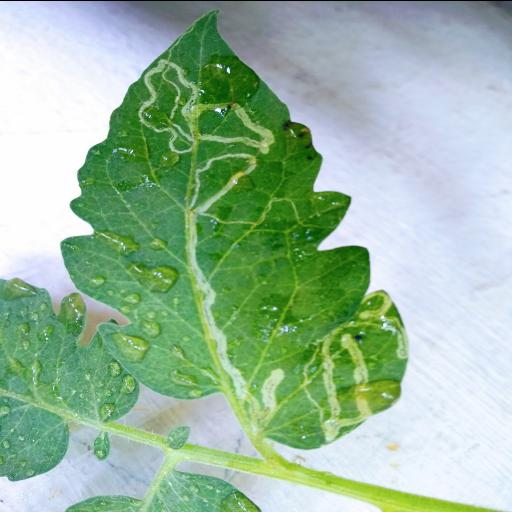disease_tomato: (55, 8, 411, 450)
